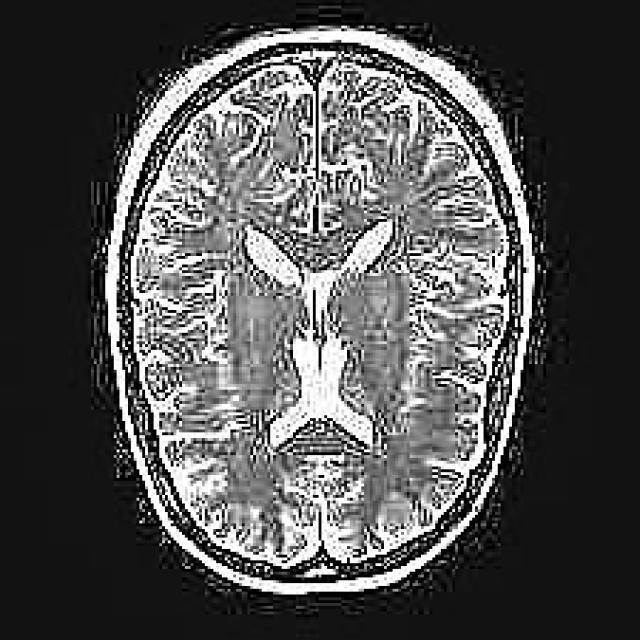notumor: (105, 28, 538, 597)
